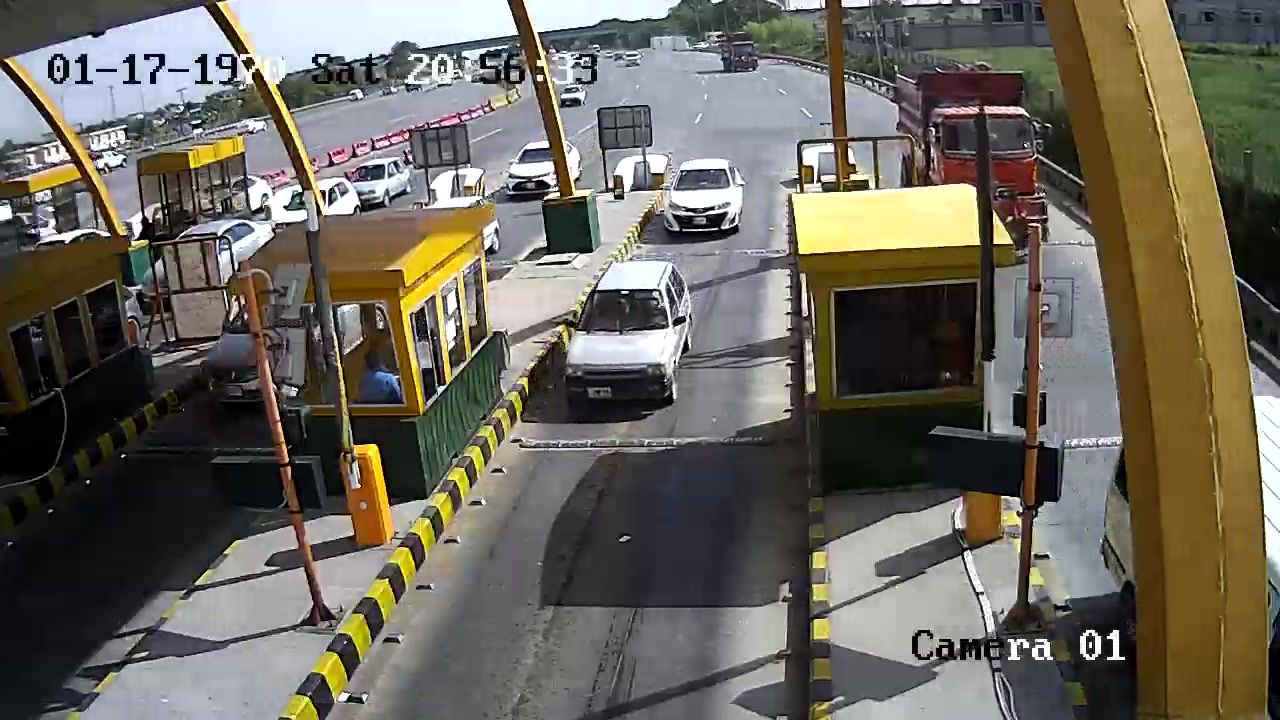F1: (549, 254, 703, 451)
